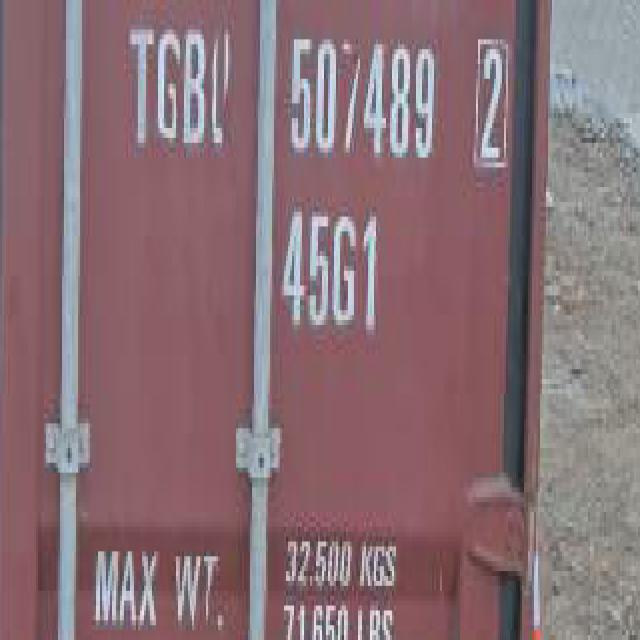dv: (469, 27, 514, 186)
owner: (111, 10, 242, 192)
serial: (282, 16, 445, 186)
size: (272, 197, 388, 349)
